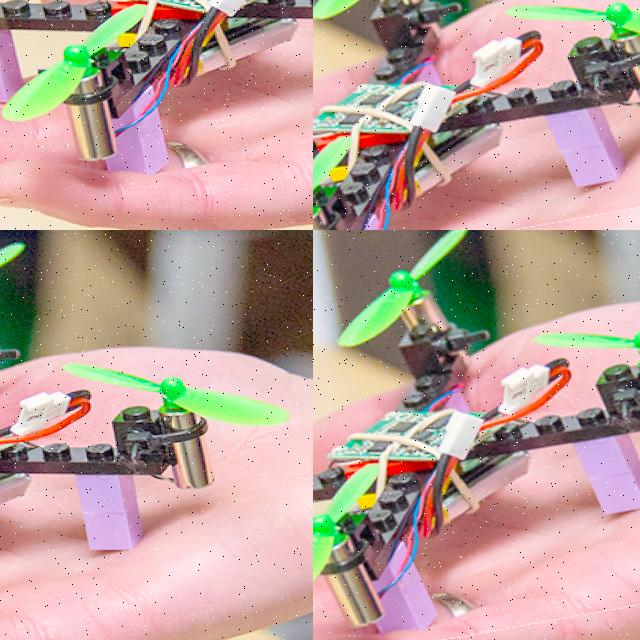drone: (313, 230, 640, 640), (313, 0, 640, 230)
